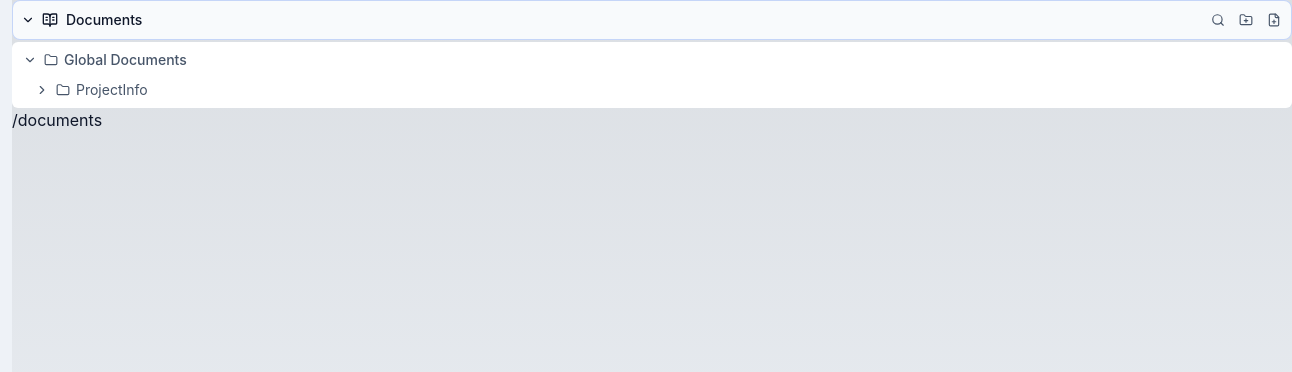
Test: DocumentsSidebarSection › navigates to the document path when a document is clicked
The width and height of the screenshot is (1292, 372).
Step 1. Click the button named "Expand ProjectInfo" → (42, 90), box [32,80,52,100]
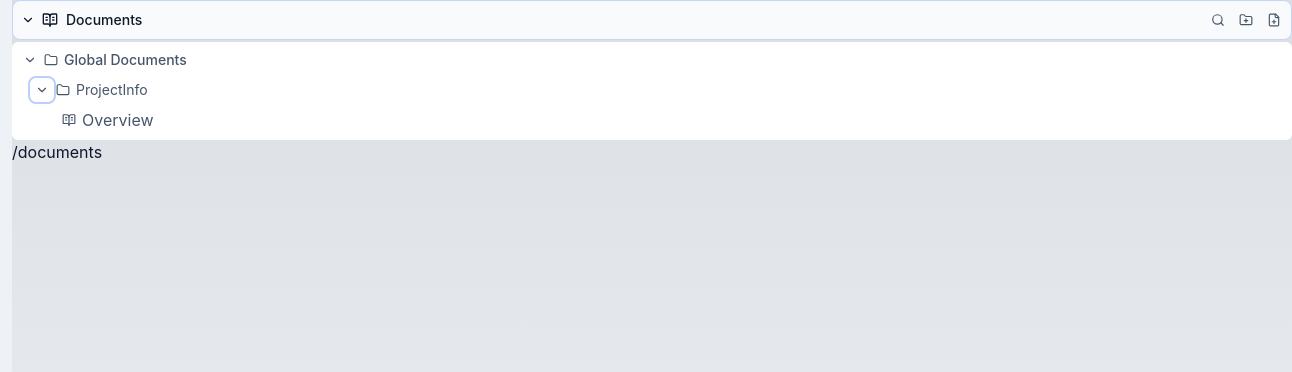
Step 2. Click the button "Overview" → (118, 120), box [40,104,1288,136]
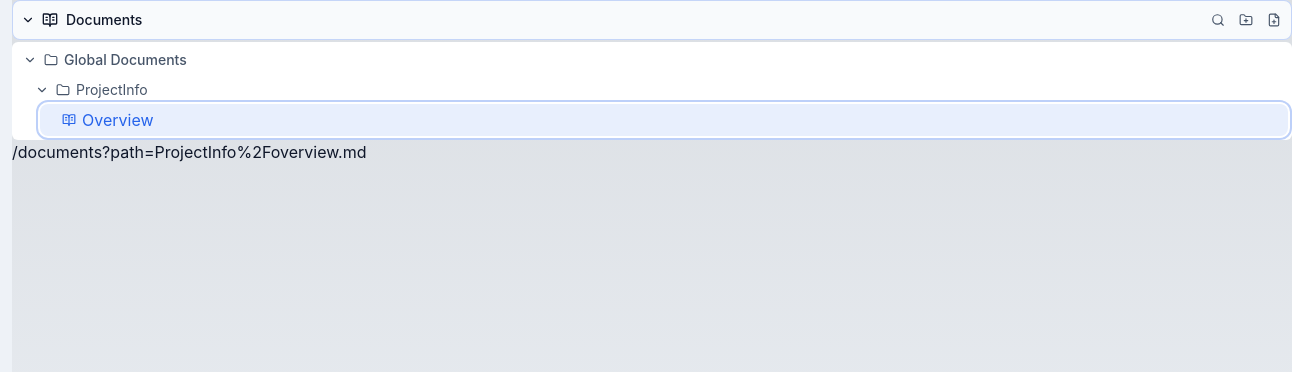
expect the text with test id "location-probe" reads "/documents?path=ProjectInfo%2Foverview.md": met, box [12,142,366,162]
